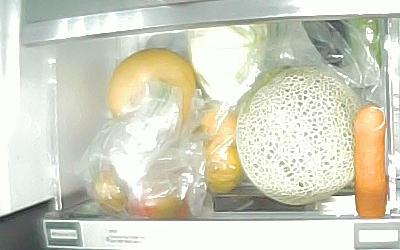cabbage: (182, 23, 268, 104)
carrot: (352, 105, 388, 219)
eggplant_vinyl: (301, 19, 350, 67)
melon: (236, 67, 366, 206)
pear_vinyl: (108, 47, 196, 137)
prune_vinyl: (133, 178, 189, 220), (91, 167, 132, 213)
tangerine_vinyl: (204, 139, 243, 195), (199, 106, 237, 146)
zucchini_vinyl: (352, 18, 384, 81)
